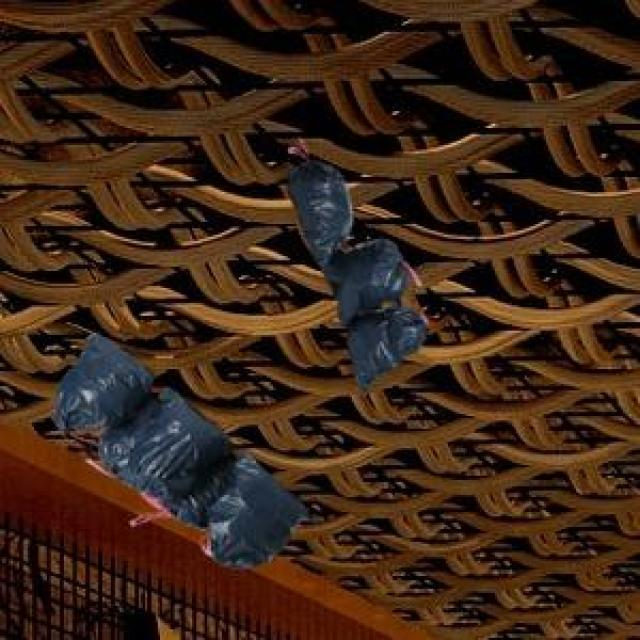Trashbag: (192, 469, 307, 568), (46, 331, 152, 432), (284, 143, 356, 270), (111, 413, 225, 492), (342, 307, 433, 399), (320, 239, 413, 323)
